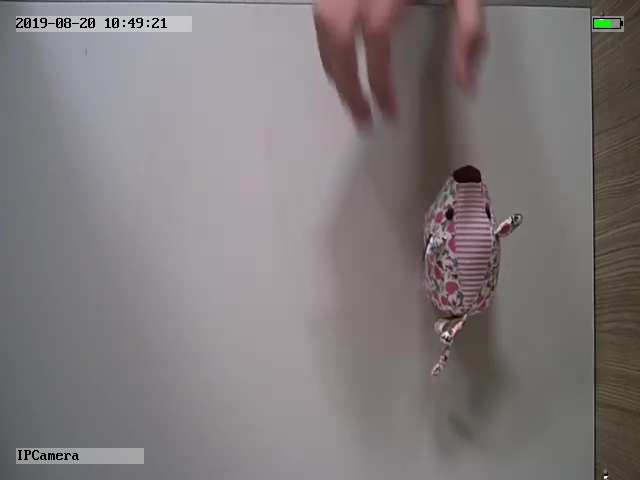pig: (420, 163, 525, 377)
